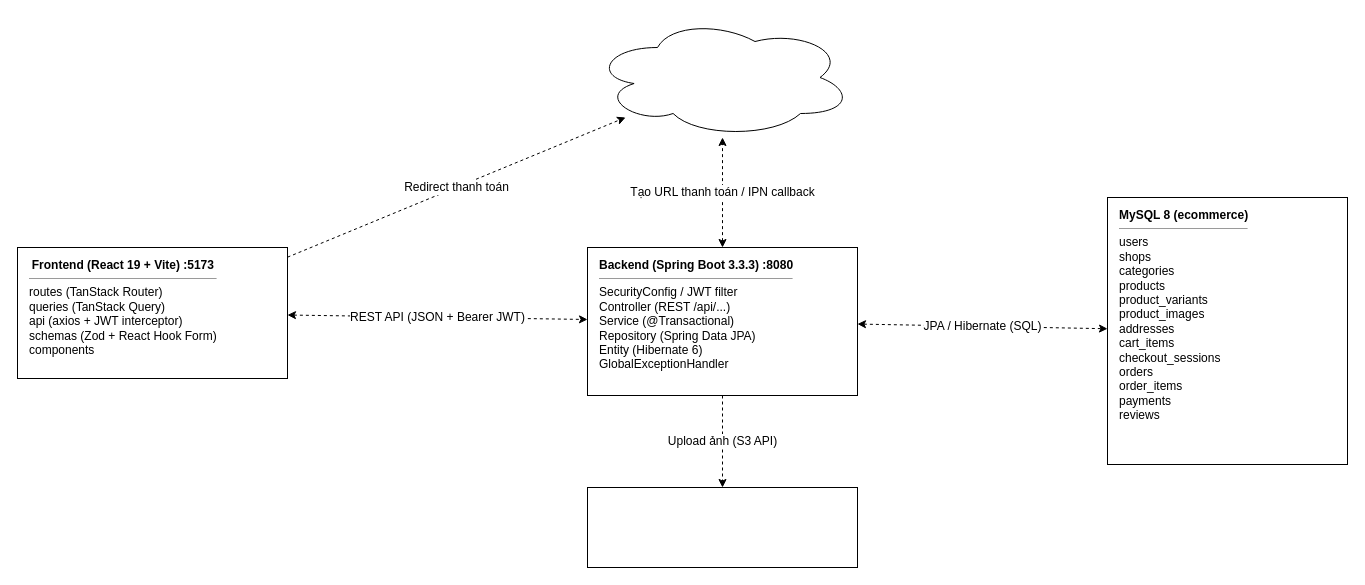
Some shapes in this 1365 by 585 pixel diagram are drawn without their labels. Here are the shapes that lost their labels. From the top down, the box of each, then its label:
(592, 16, 852, 138): VNPay + Momo (Sandbox)
(586, 486, 858, 568): S3-compatible Storage (R2 / MinIO) Ảnh sản phẩm Logo shop
